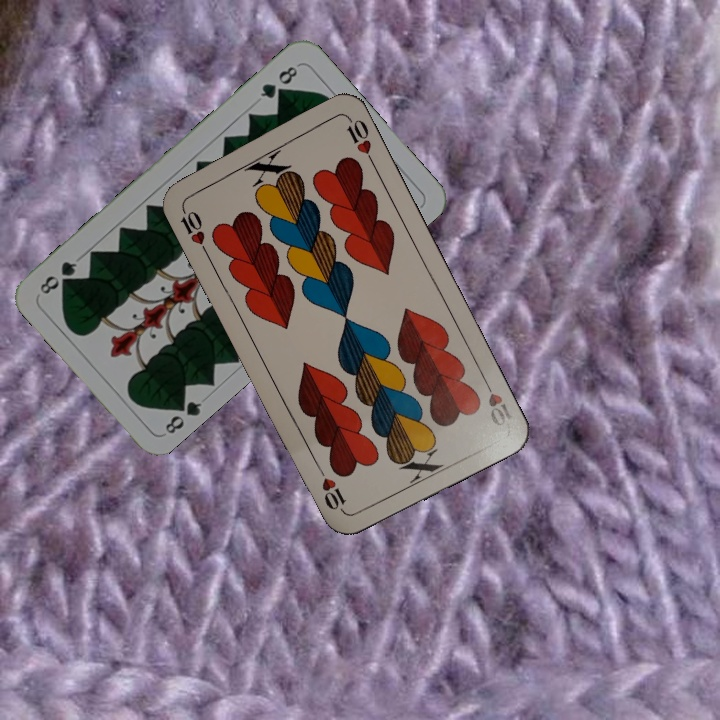G8: (160, 393, 205, 437), (256, 62, 301, 102)
H10: (478, 373, 515, 429), (176, 202, 211, 257)
